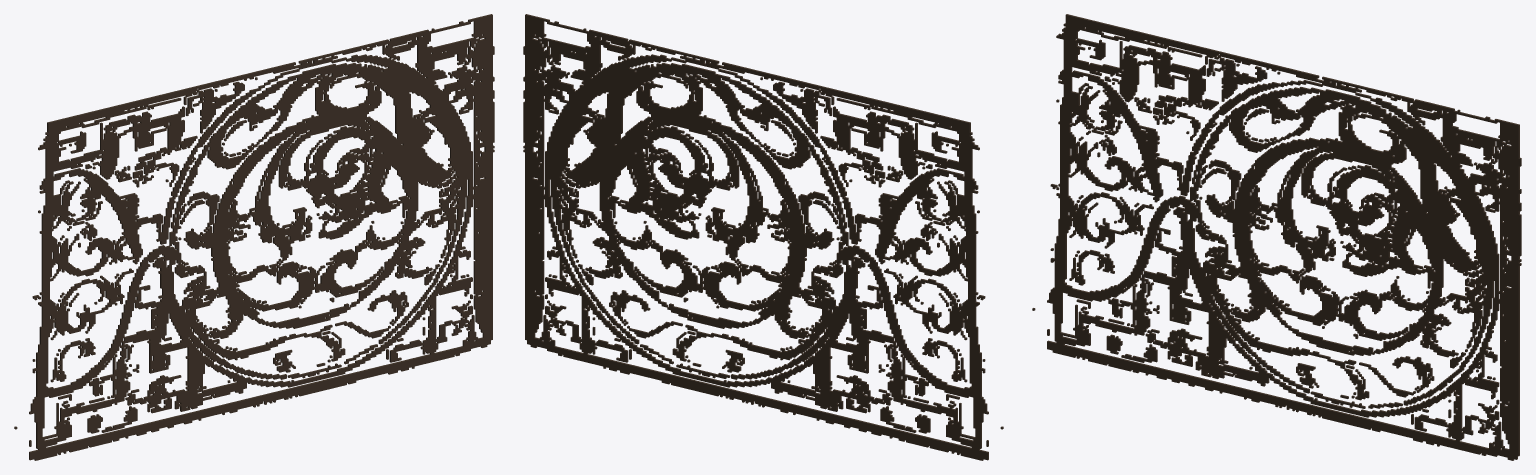
Rendered from lattice_window.glb.
3 views of the same model, side by side, from view 1: azimuth 30°, elevation 25°; view 2: azimuth 150°, elevation 25°; view 3: azimuth 330°, elevation 25° (orthographic).
Visible parts, largest first — view 1: Lattice_Silhouette; view 2: Lattice_Silhouette; view 3: Lattice_Silhouette.
Boxes of the visible parts, box(x1,y1,x2,y2) form: Lattice_Silhouette: box(14, 14, 494, 460); Lattice_Silhouette: box(523, 14, 1003, 460); Lattice_Silhouette: box(1032, 14, 1521, 460).
Size of the model in its own units: 1.5 by 1 by 0.00622.
